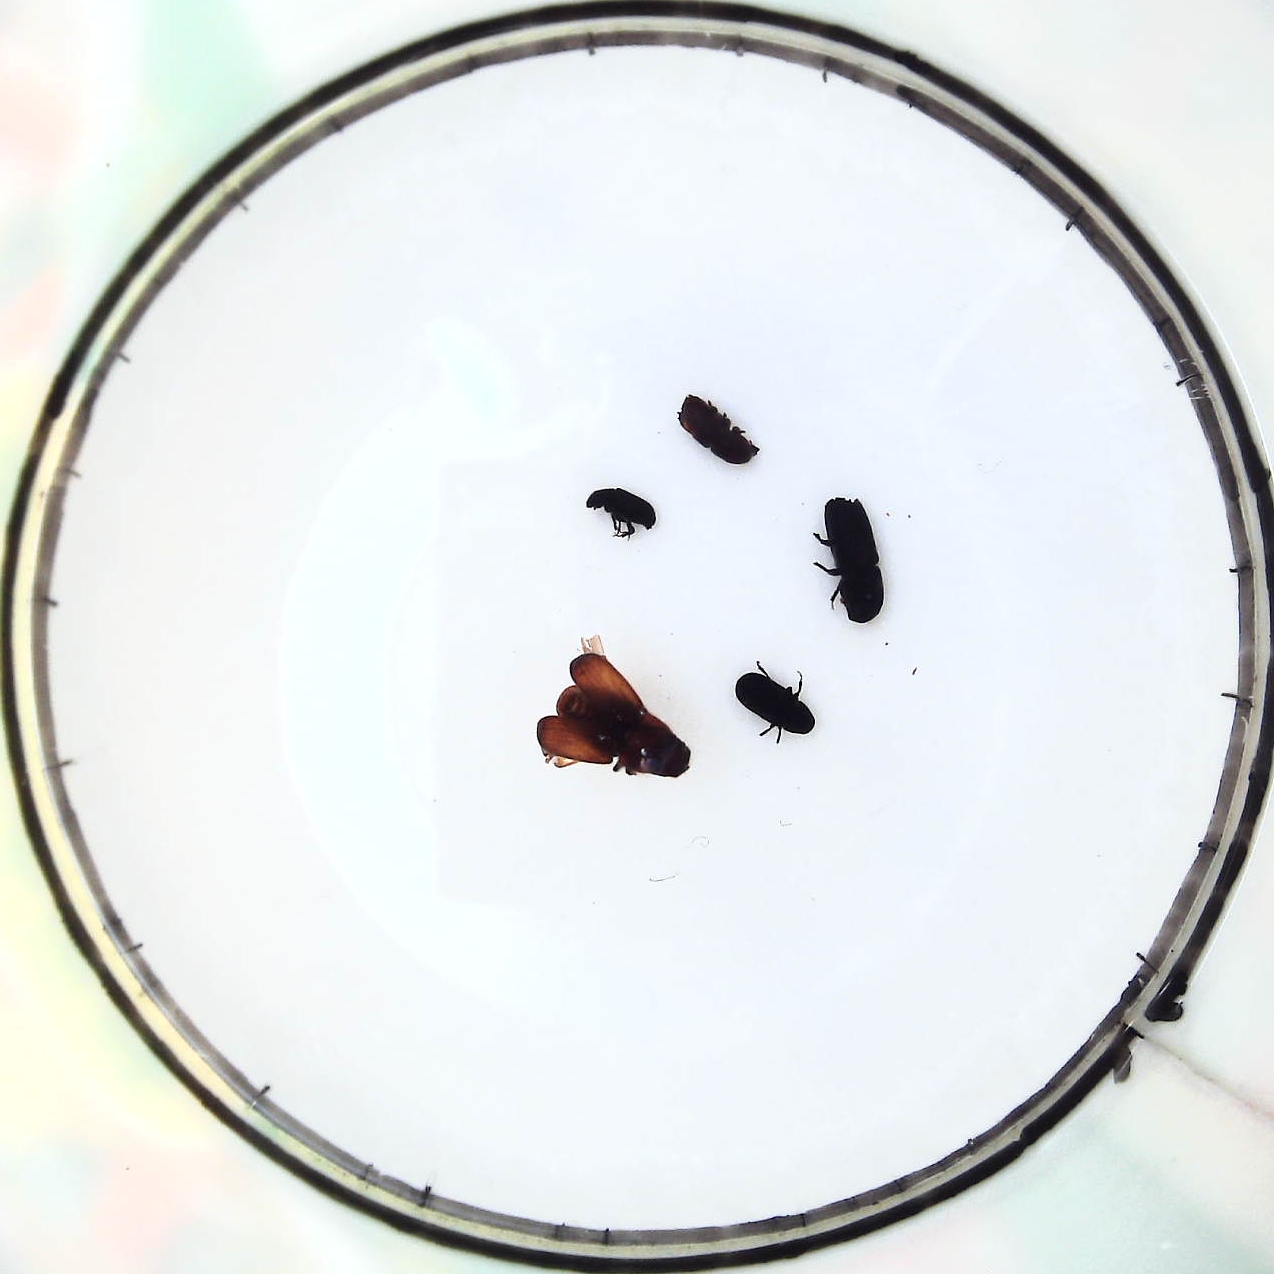Boerner: (814, 487, 892, 623)
Leconte: (539, 645, 695, 777)
Linnaeus: (680, 386, 761, 473)
armandi: (736, 667, 817, 735)
coleoptera: (584, 487, 656, 535)
